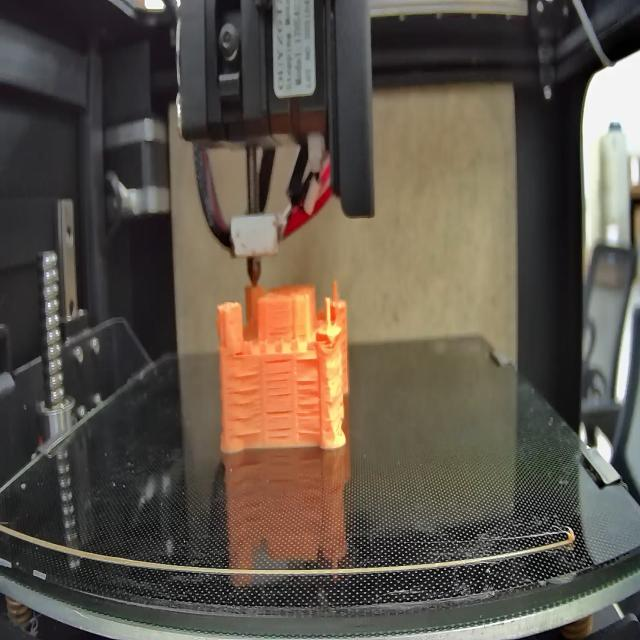cracks: (227, 372, 261, 437), (297, 379, 323, 438), (264, 362, 293, 401), (264, 409, 292, 442), (268, 325, 292, 336), (296, 356, 317, 368), (232, 350, 248, 356)
